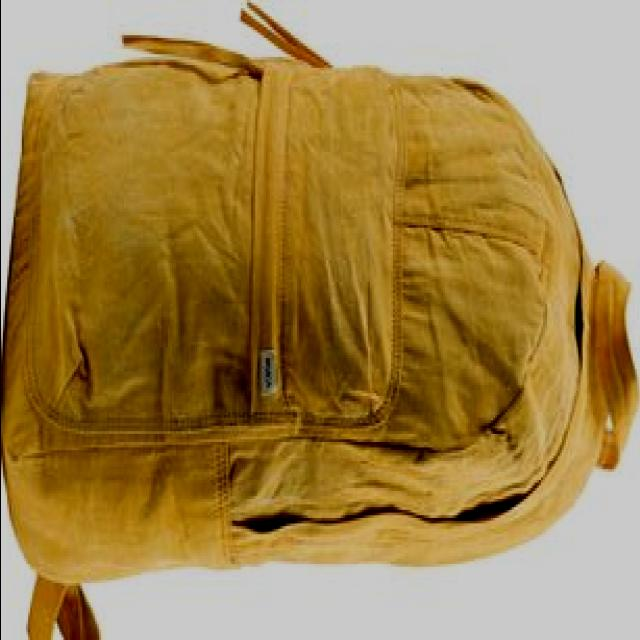backpack: (3, 1, 640, 638)
